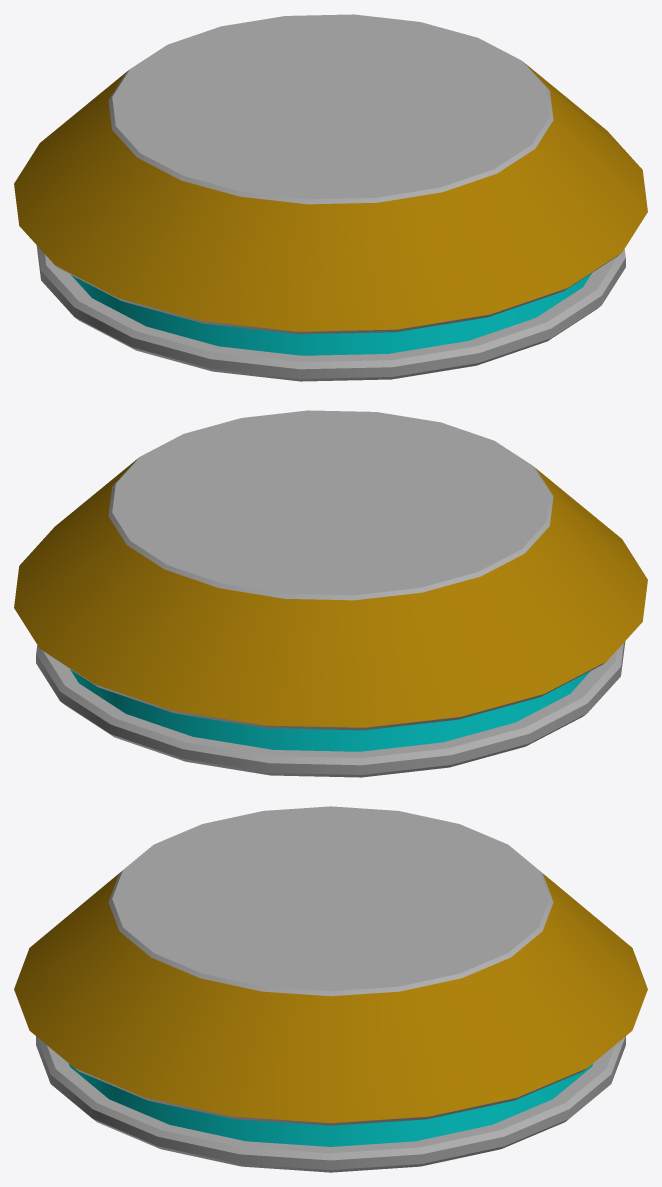
File: Bunker.fbx
3 views of the same model, one above another, from view 1: azimuth 30°, elevation 25°; view 2: azimuth 150°, elevation 25°; view 3: azimuth 270°, elevation 25° (orthographic).
Visible parts, largest first — view 1: Bunker; view 2: Bunker; view 3: Bunker.
Part boxes in pixels (<box>): Bunker: <box>14,14,647,381</box>; Bunker: <box>14,410,647,777</box>; Bunker: <box>14,806,647,1172</box>.
Size of the model in its own units: 6.85 by 1.8 by 6.85.
